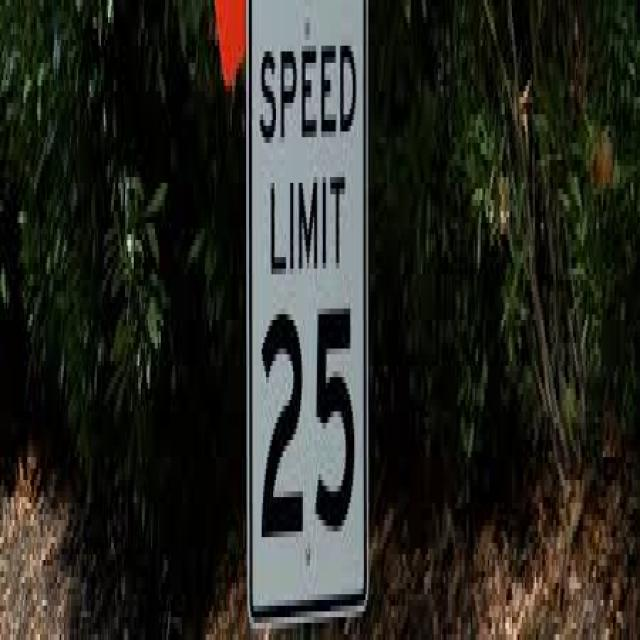speedLimit25: (243, 14, 379, 603)
